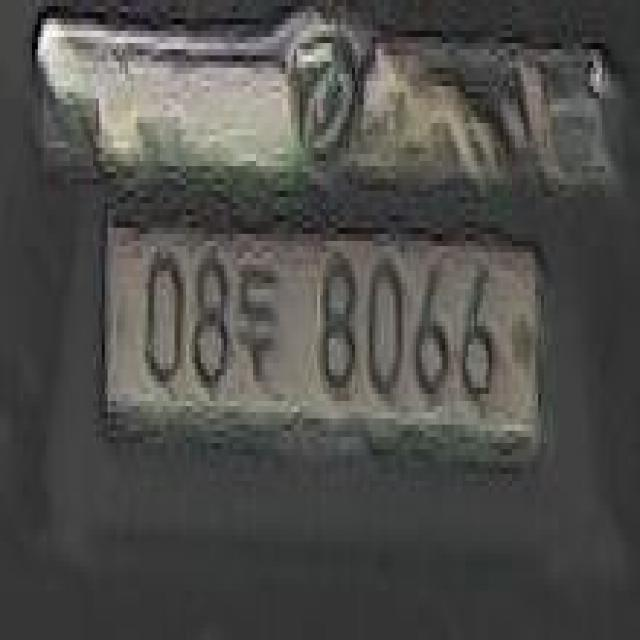illegal_plate: (95, 208, 551, 486)
